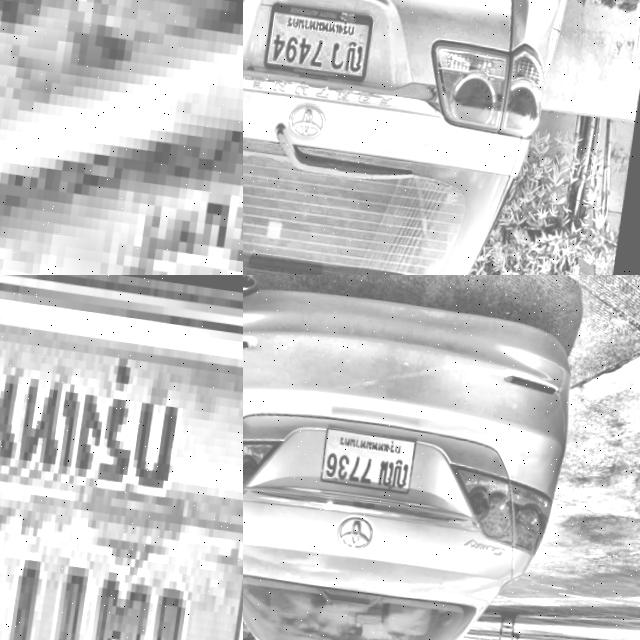license-plate: (0, 275, 243, 640), (0, 0, 243, 275), (261, 0, 375, 83), (318, 423, 417, 494)
